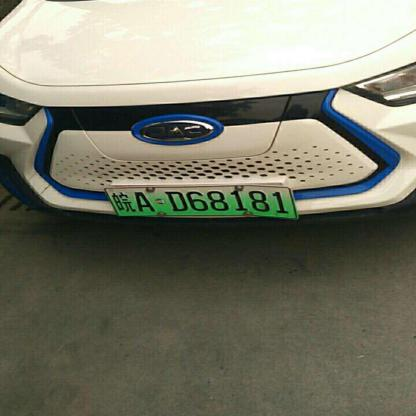lp: (106, 188, 294, 217)
